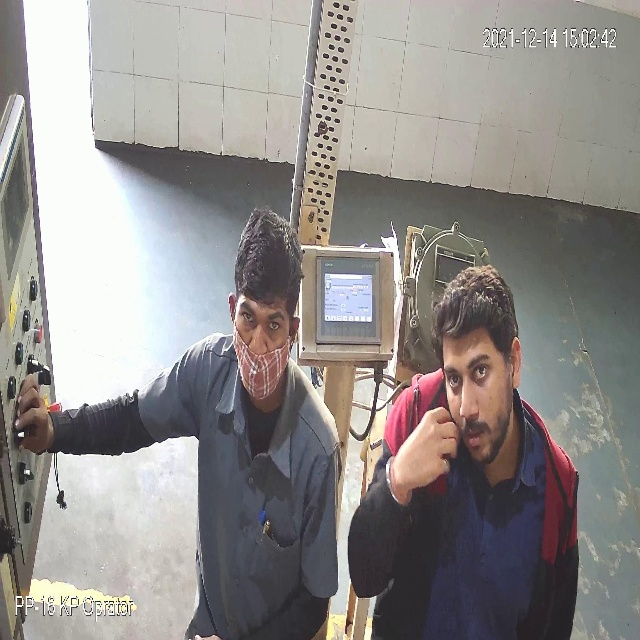Sin_gafas: (444, 353, 502, 396), (236, 300, 289, 338)
Sin_mascara: (445, 398, 510, 469)
